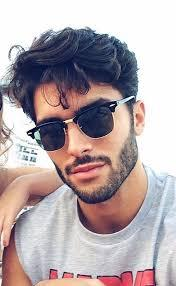sunglasses: (20, 101, 118, 155)
